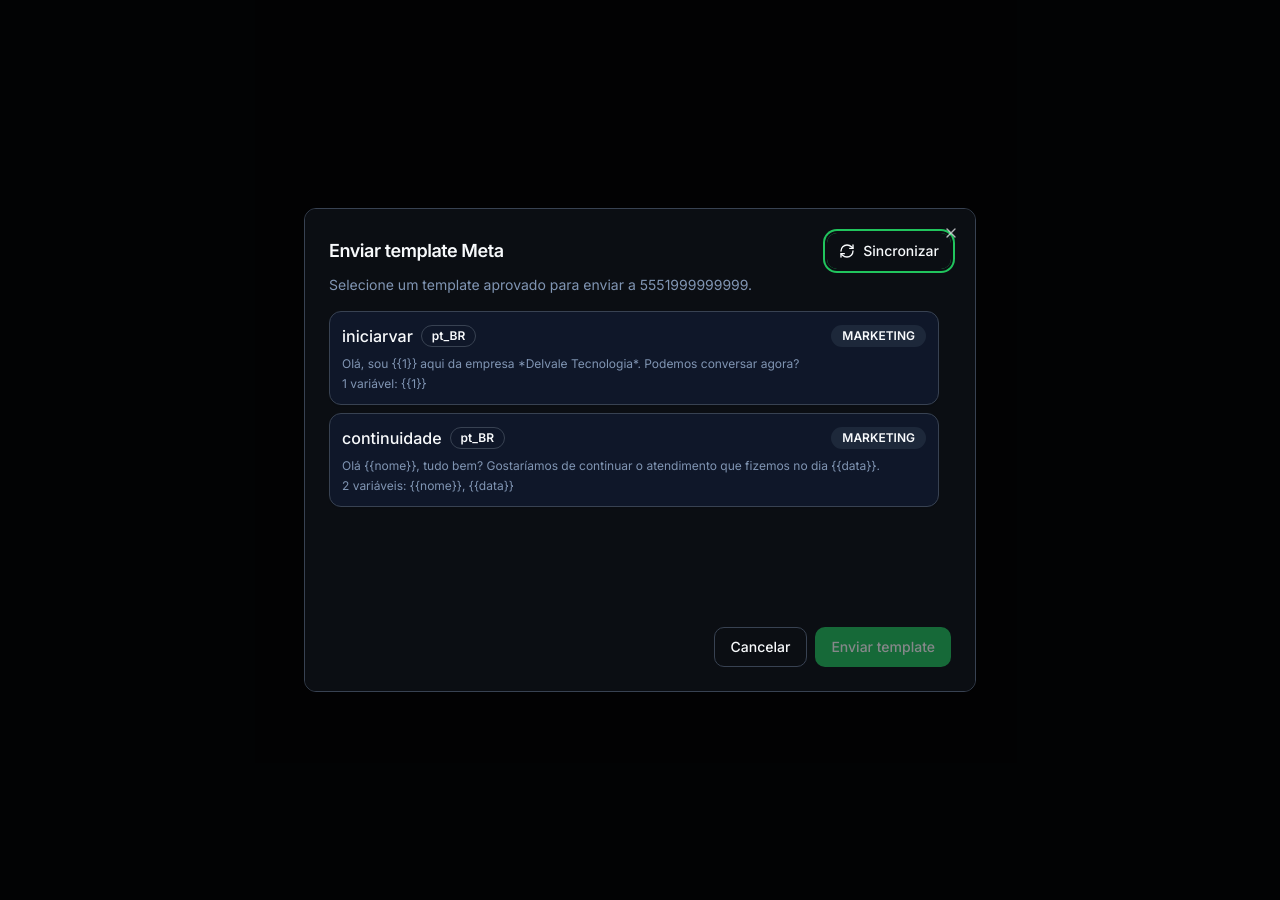
Test: MetaTemplatePicker · pré-preenchimento (DEM-0350) › preenche o nome do operador em 'Olá, sou {{1}}' sem ninguém digitar
Click the text "iniciarvar" at (377, 336), box [342,324,413,348]
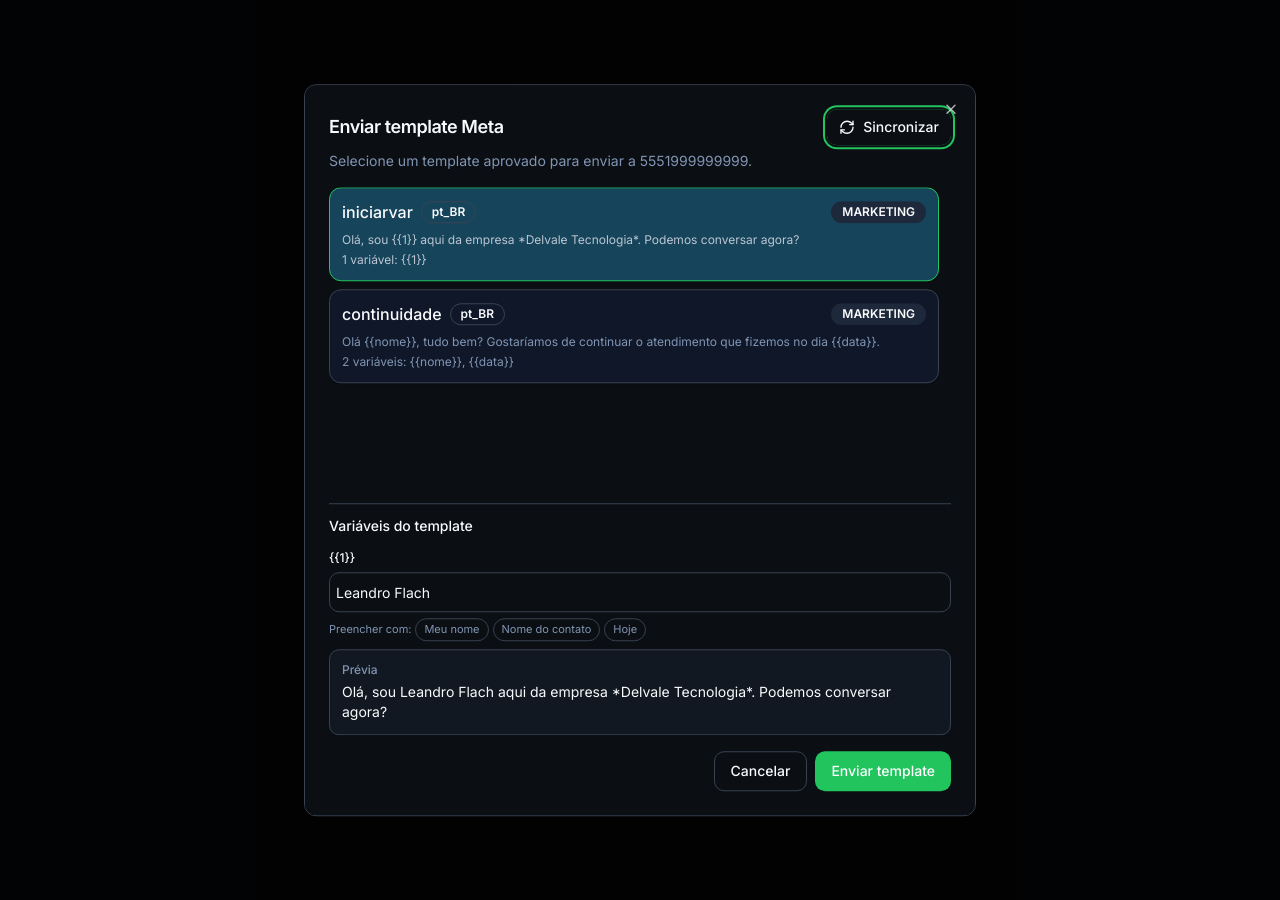
Now the field holds "Leandro Flach", box [329,572,951,612]
Now the text "Olá, sou Leandro Flach aqui da empresa *Delvale Tecnologia*. Podemos conversar agora?" is shown, box [342,683,895,720]
